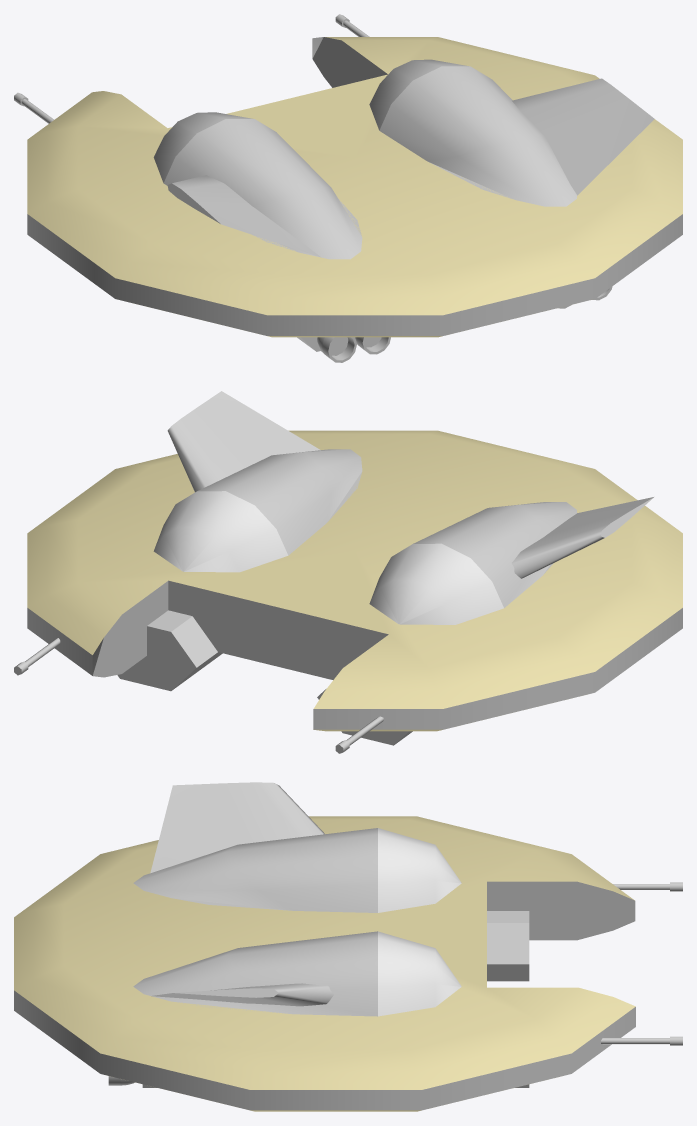
The model's file is lod1_body.dae.
3 renders of one model, top to bottom at view 1: azimuth 30°, elevation 25°; view 2: azimuth 150°, elevation 25°; view 3: azimuth 270°, elevation 25°, orthographic.
Parts seen in each view (by area): view 1: lod1_body, lod1_b_003; view 2: lod1_body; view 3: lod1_body.
Boxes of the visible parts, x1,y1,x2,y2 form: lod1_body: (14,14,682,351); lod1_b_003: (317,337,356,362); lod1_body: (14,391,682,753); lod1_body: (14,782,682,1111).
Size of the model in its own units: 20 by 20.77 by 4.71.
